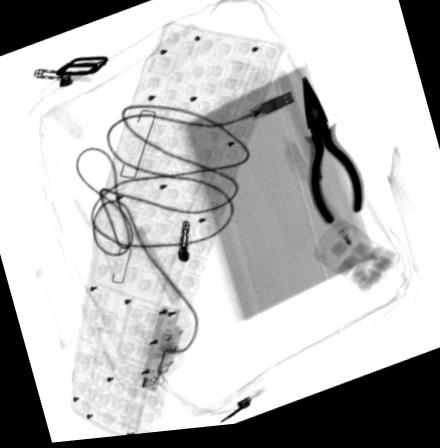Pliers: (299, 80, 366, 231)
